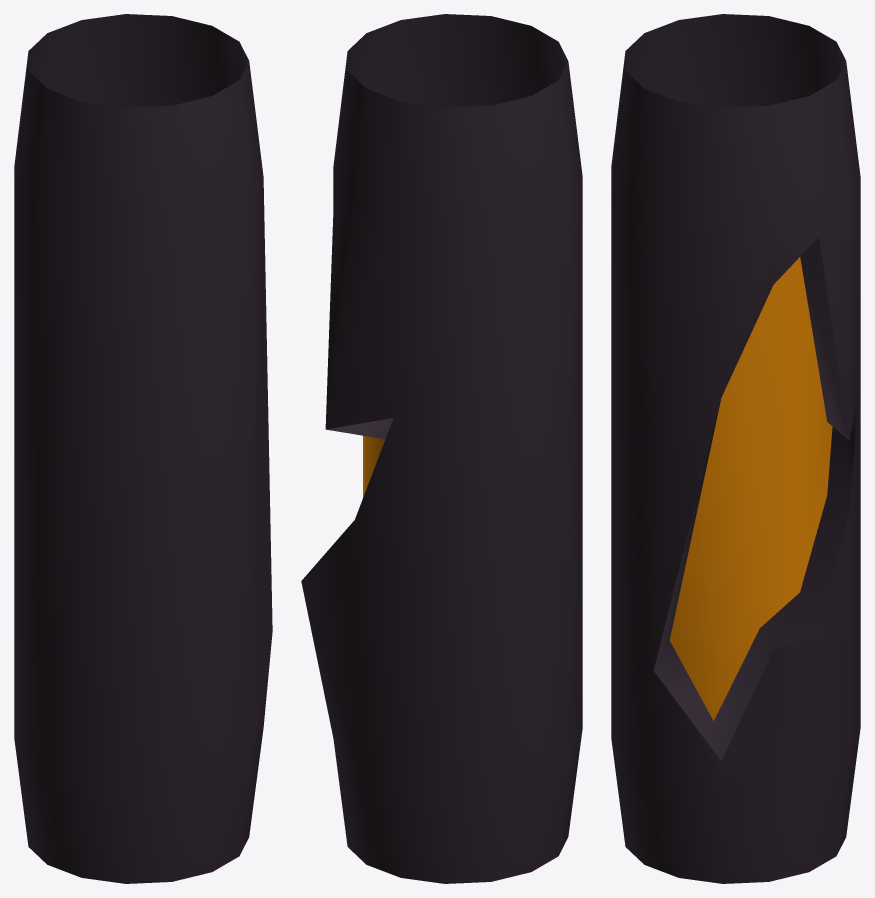
The model's file is FrayedCord 1.fbx.
3 renders of one model, left to right at view 1: azimuth 30°, elevation 25°; view 2: azimuth 150°, elevation 25°; view 3: azimuth 270°, elevation 25°, orthographic.
Visible parts, largest first — view 1: Cylinder; view 2: Cylinder; view 3: Cylinder.
Boxes of the visible parts, left/top/right/bottom form: Cylinder: left=14, top=14, right=272, bottom=883; Cylinder: left=301, top=14, right=582, bottom=883; Cylinder: left=611, top=14, right=860, bottom=883.
Bounding box in the file's own units: 3.63 × 12.12 × 3.53.
